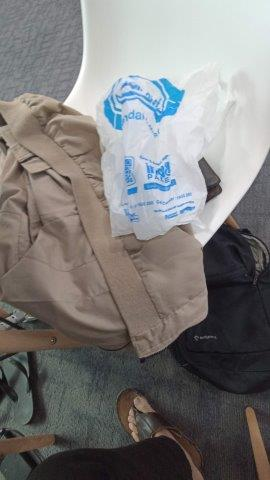plastik: (98, 66, 233, 241)
